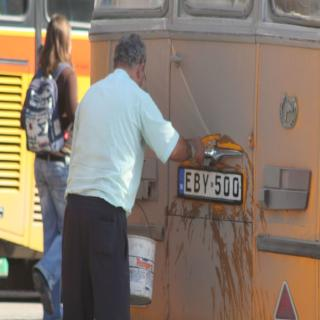license: (181, 165, 245, 214)
